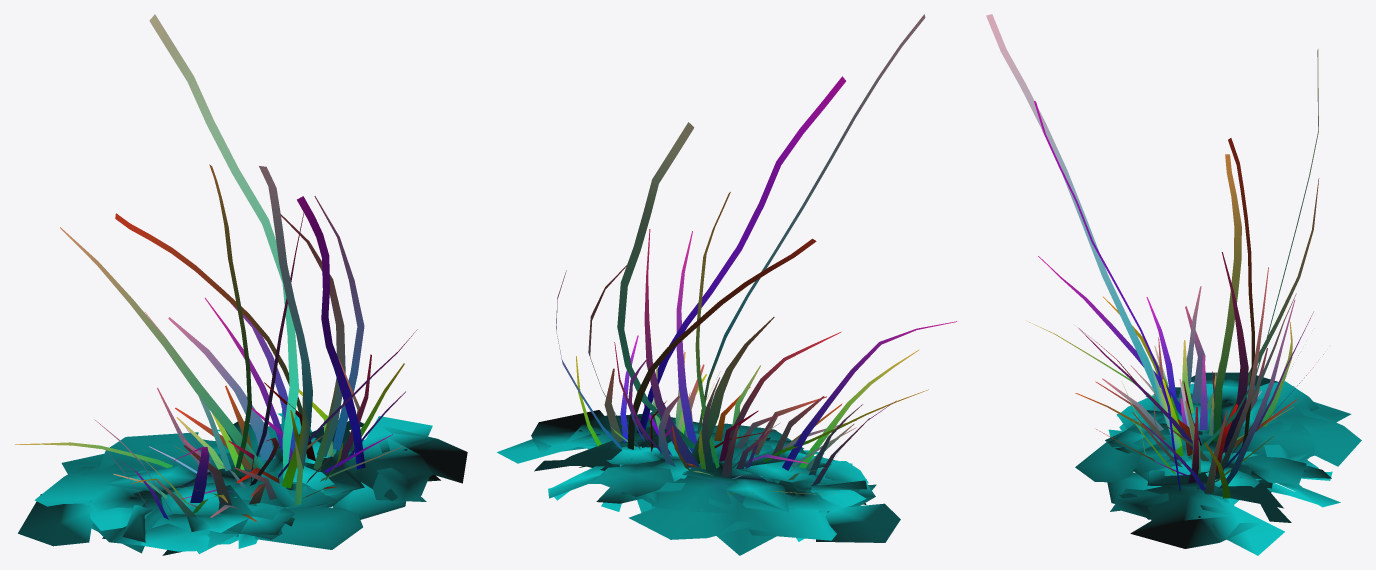
File: Wild_Grass_vczndjqja_Mid_vczndjqja_VarH_LOD1.fbx
3 views of the same model, side by side, from view 1: azimuth 30°, elevation 25°; view 2: azimuth 150°, elevation 25°; view 3: azimuth 270°, elevation 25° (orthographic). The views are drawn at different scales.
Visible parts, largest first — view 1: _oy3b_VarH_LOD2; view 2: _oy3b_VarH_LOD2; view 3: _oy3b_VarH_LOD2.
Boxes of the visible parts, x1,y1,x2,y2 form: _oy3b_VarH_LOD2: (15,14,467,555); _oy3b_VarH_LOD2: (497,14,957,555); _oy3b_VarH_LOD2: (986,14,1361,555).
Bounding box in the file's own units: 89.11 × 90.68 × 76.84.
